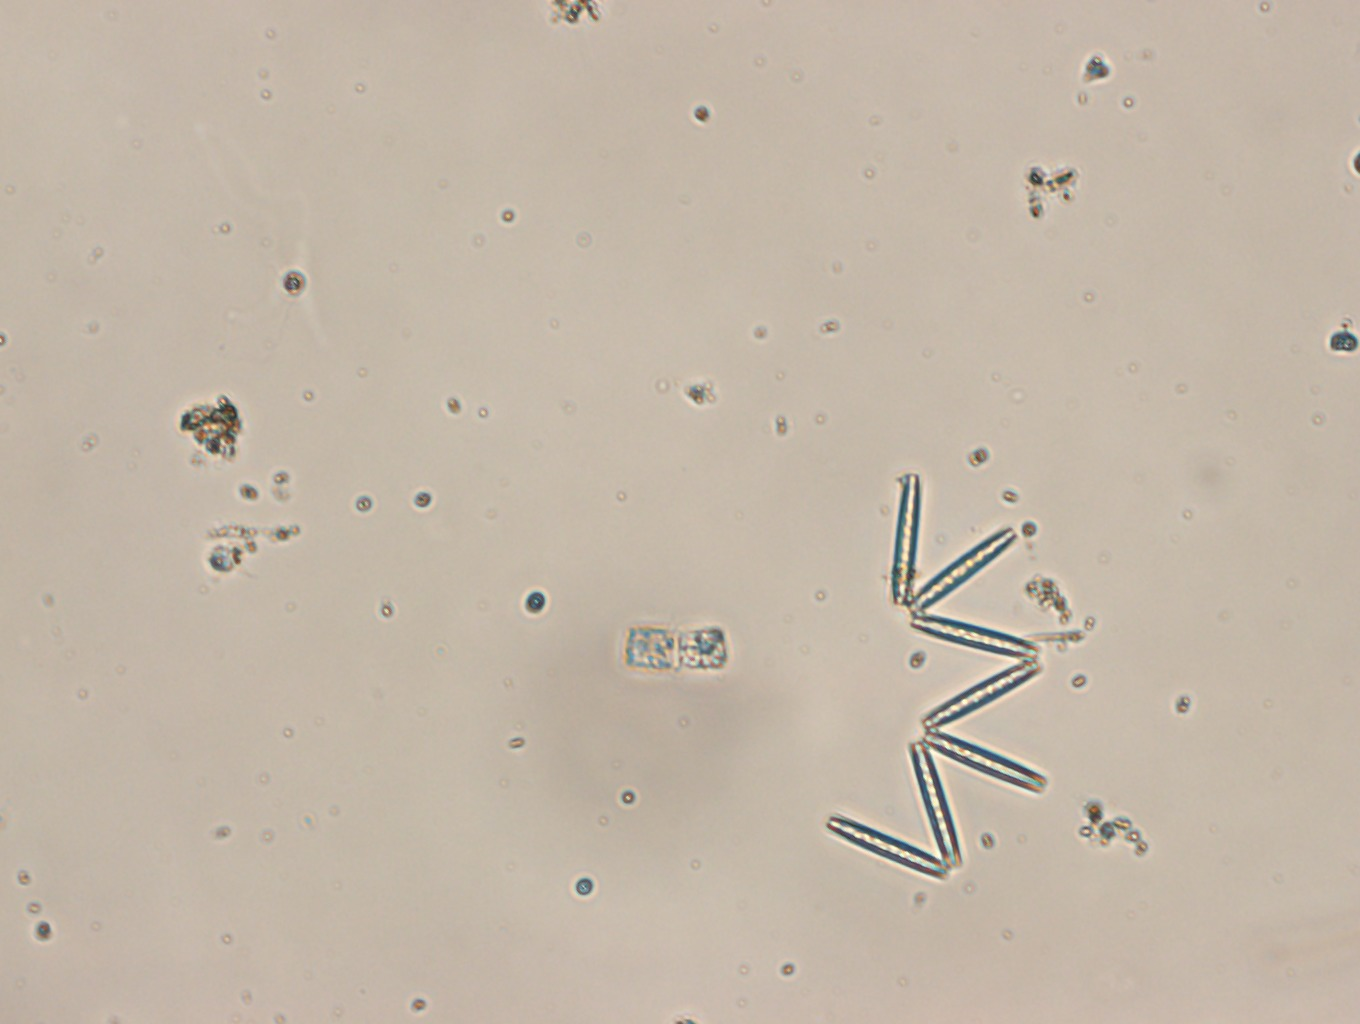thalassionema nitzschioides: (826, 470, 1047, 881)
